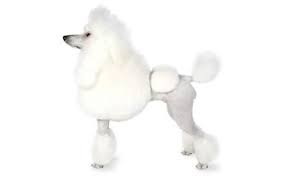Poodle: (51, 4, 231, 178)
